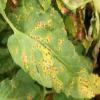Tomato Septoria leaf spot: (8, 11, 96, 97)
